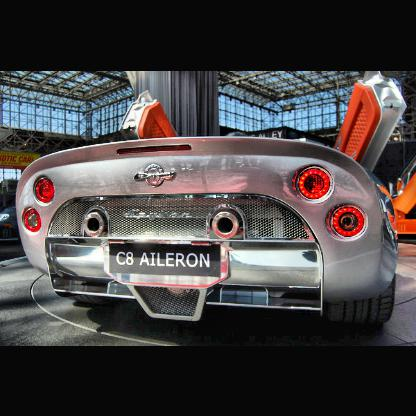Spyker C8 Coupe 2009: (14, 72, 410, 338)
